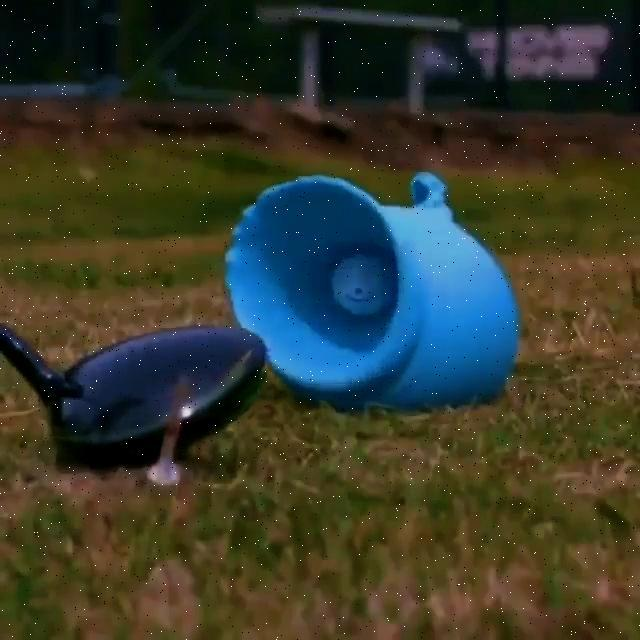golf club-handle: (0, 318, 279, 470)
golf club-head: (66, 325, 269, 453)
